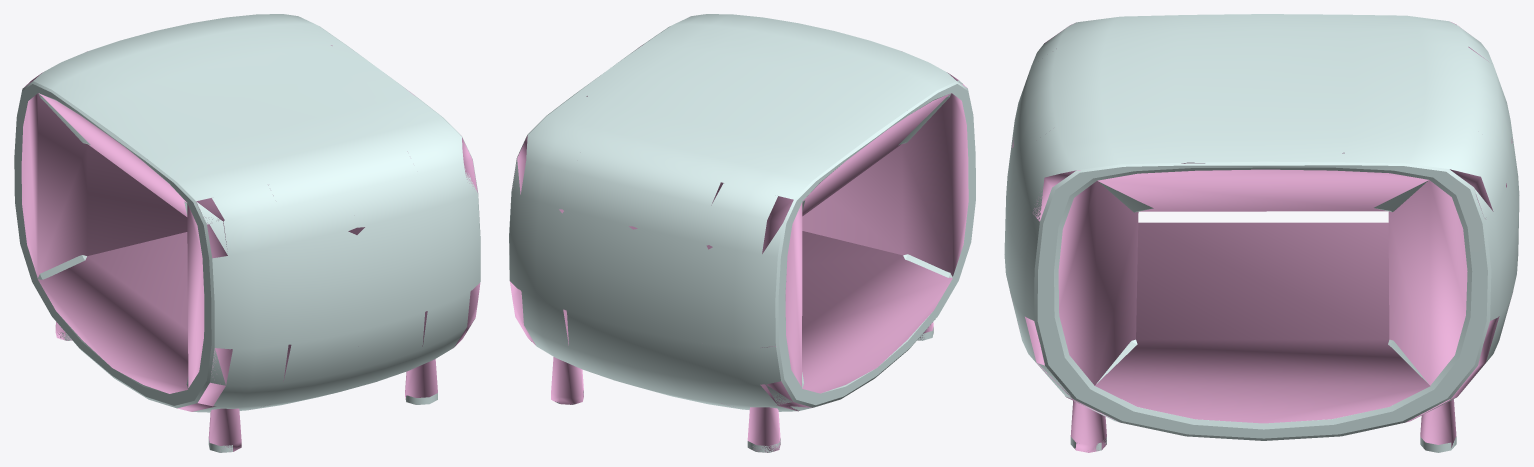
File: table.fbx
3 renders of one model, left to right at view 1: azimuth 30°, elevation 25°; view 2: azimuth 150°, elevation 25°; view 3: azimuth 270°, elevation 25°, orthographic. The views are drawn at different scales.
Parts seen in each view (by area): view 1: table_reference, table_reference_physics; view 2: table_reference, table_reference_physics; view 3: table_reference, table_reference_physics.
Part boxes in pixels (x1,y1,x2,y2): table_reference: (14,14,480,452); table_reference_physics: (21,45,480,451); table_reference: (509,14,975,452); table_reference_physics: (509,44,968,452); table_reference: (1004,14,1519,452); table_reference_physics: (1012,22,1512,452).
Size of the model in its own units: 2353 by 2260 by 3405.
